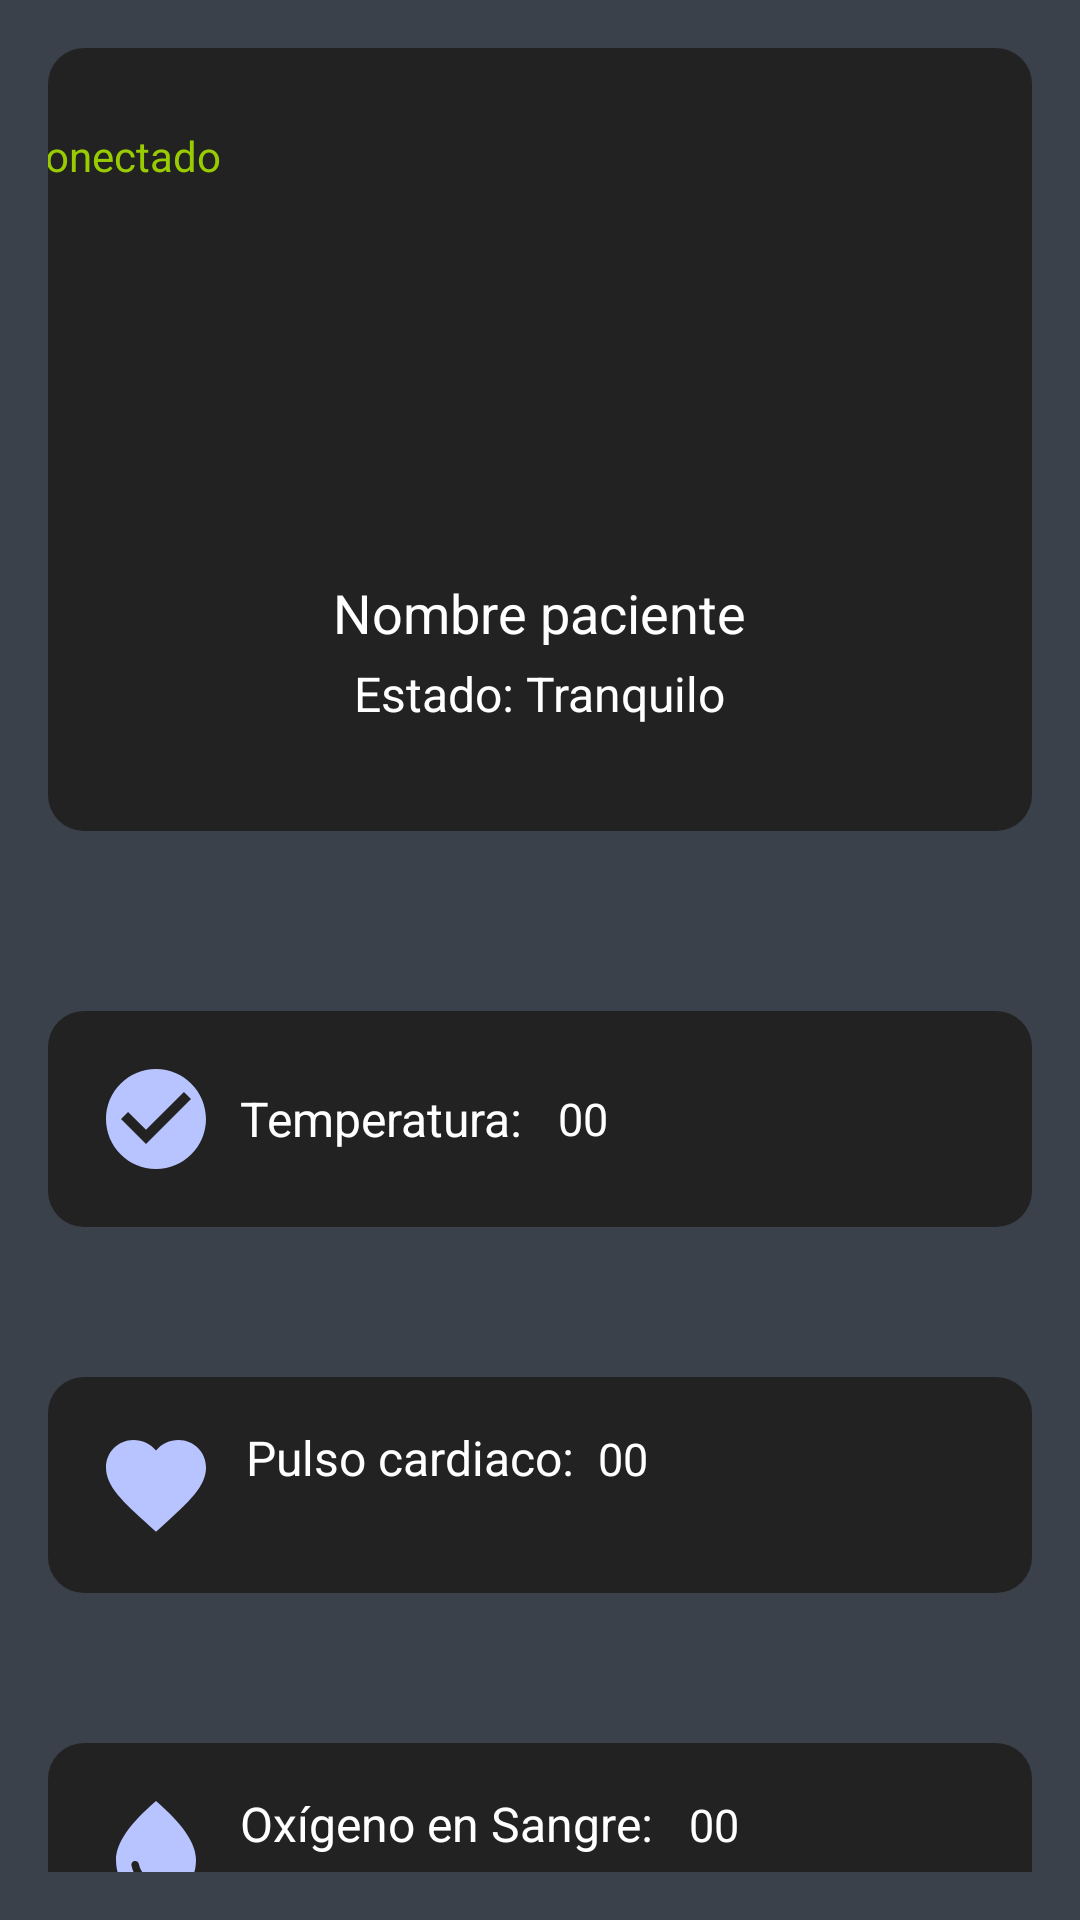

Point at icon controls on the screen. Image size 1080px×1920px, points as (x,y).
check: (156,1119)
corazon: (156,1486)
